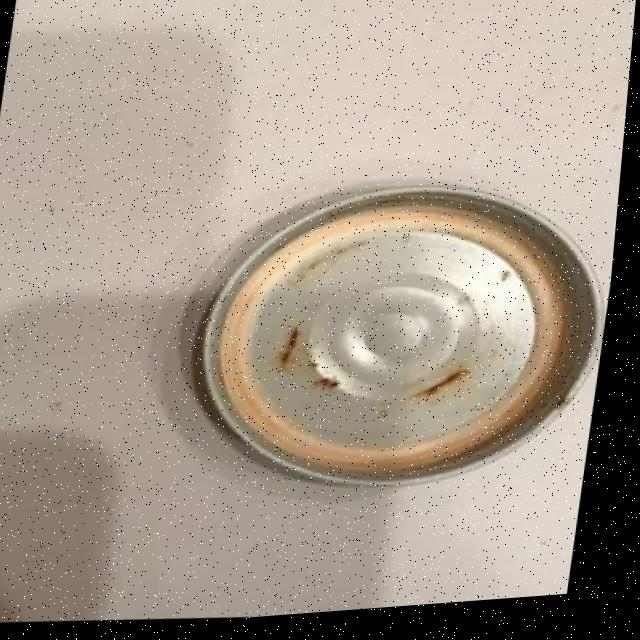metal: (171, 160, 626, 519)
